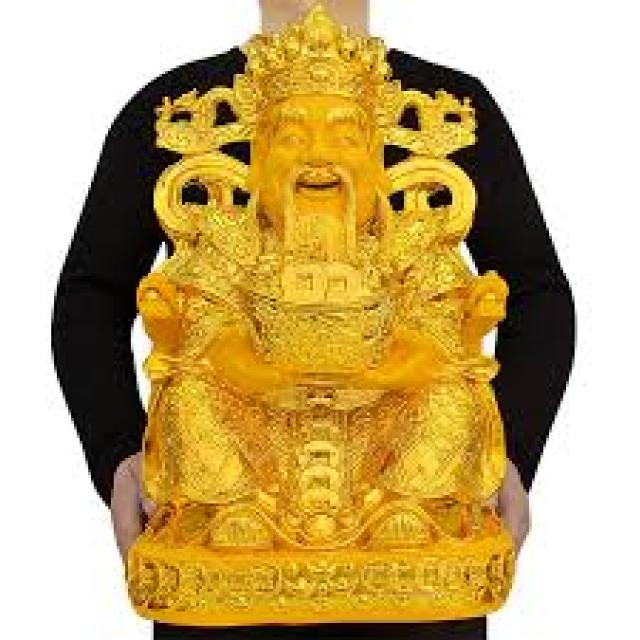Cai shen: (166, 11, 460, 558)
